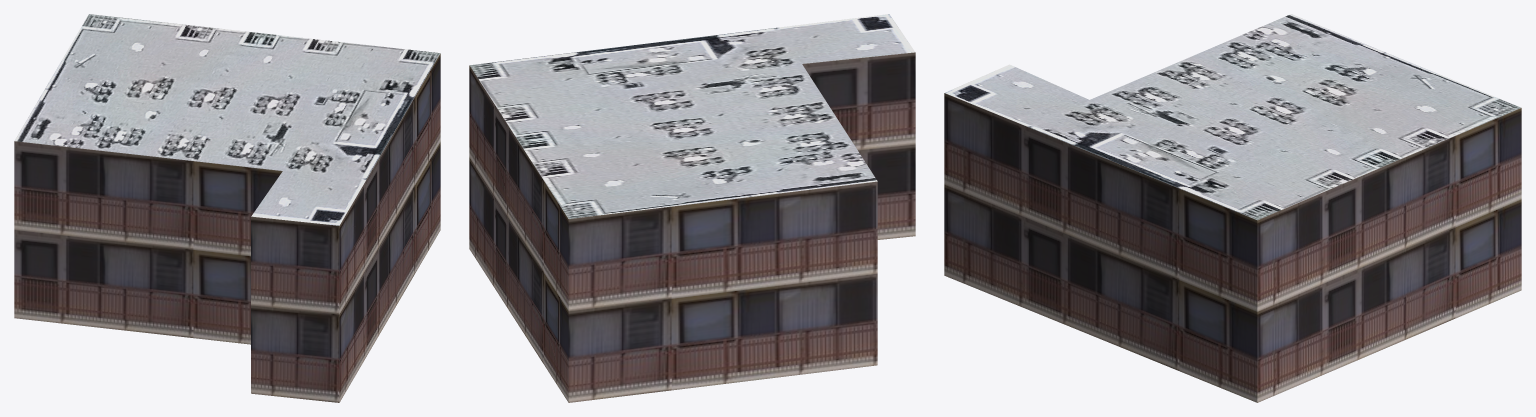
The model's file is ResTex__1787.fbx.
3 views of the same model, side by side, from view 1: azimuth 30°, elevation 25°; view 2: azimuth 150°, elevation 25°; view 3: azimuth 270°, elevation 25° (orthographic). The views are drawn at different scales.
Parts seen in each view (by area): view 1: CityEngineMaterial_6_m, CityEngineMaterial_m; view 2: CityEngineMaterial_6_m, CityEngineMaterial_m; view 3: CityEngineMaterial_6_m, CityEngineMaterial_m.
Boxes of the visible parts, x1,y1,x2,y2 form: CityEngineMaterial_6_m: (14,53,440,402); CityEngineMaterial_m: (14,14,440,225); CityEngineMaterial_6_m: (469,52,915,402); CityEngineMaterial_m: (470,14,914,218); CityEngineMaterial_6_m: (944,93,1521,402); CityEngineMaterial_m: (945,14,1520,219).
Bounding box in the file's own units: 14.53 × 6 × 17.17.
Materials: 2 (2 with a texture image).
